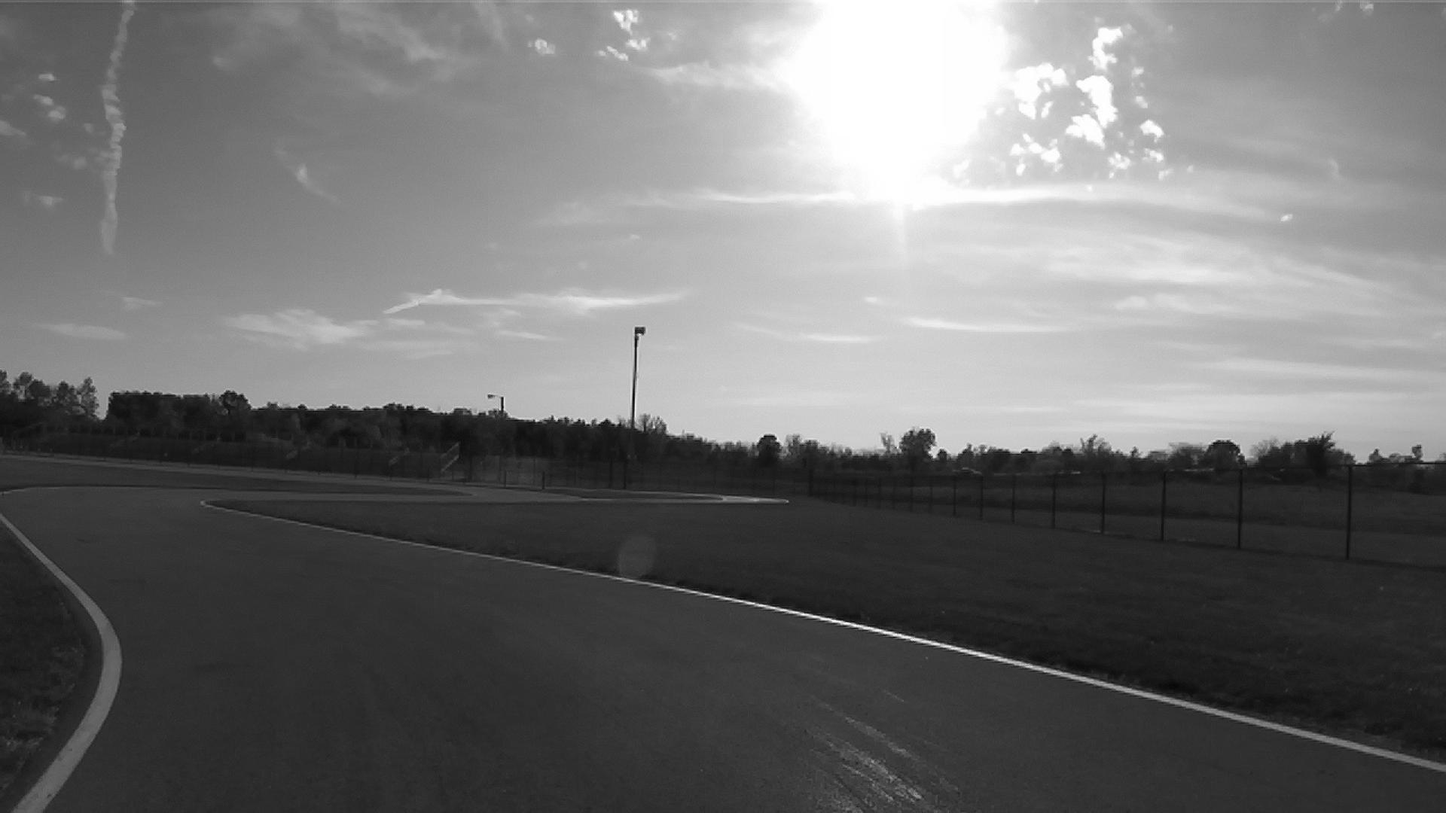white-line: (289, 522, 1445, 773), (0, 514, 121, 812)
